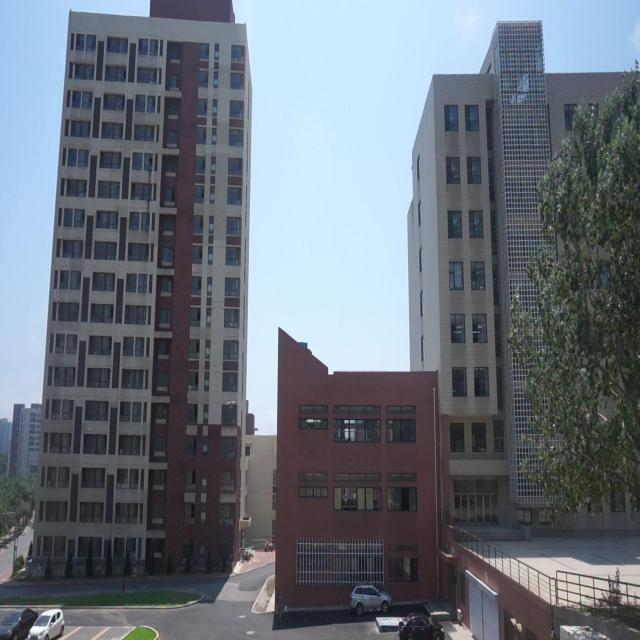drone: (225, 394, 237, 412)
